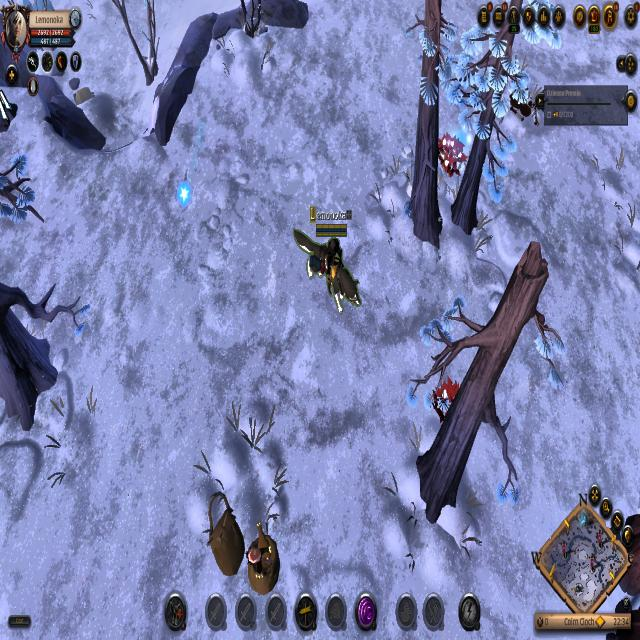fiber tier 5: (434, 125, 466, 183)
